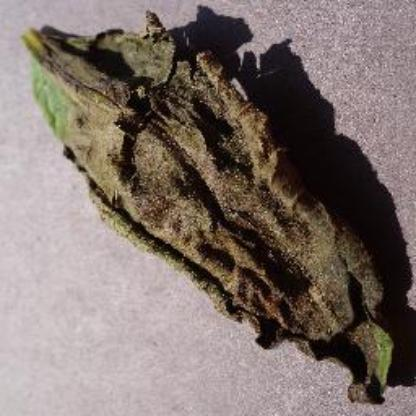Late-Blight: (16, 13, 402, 409)
